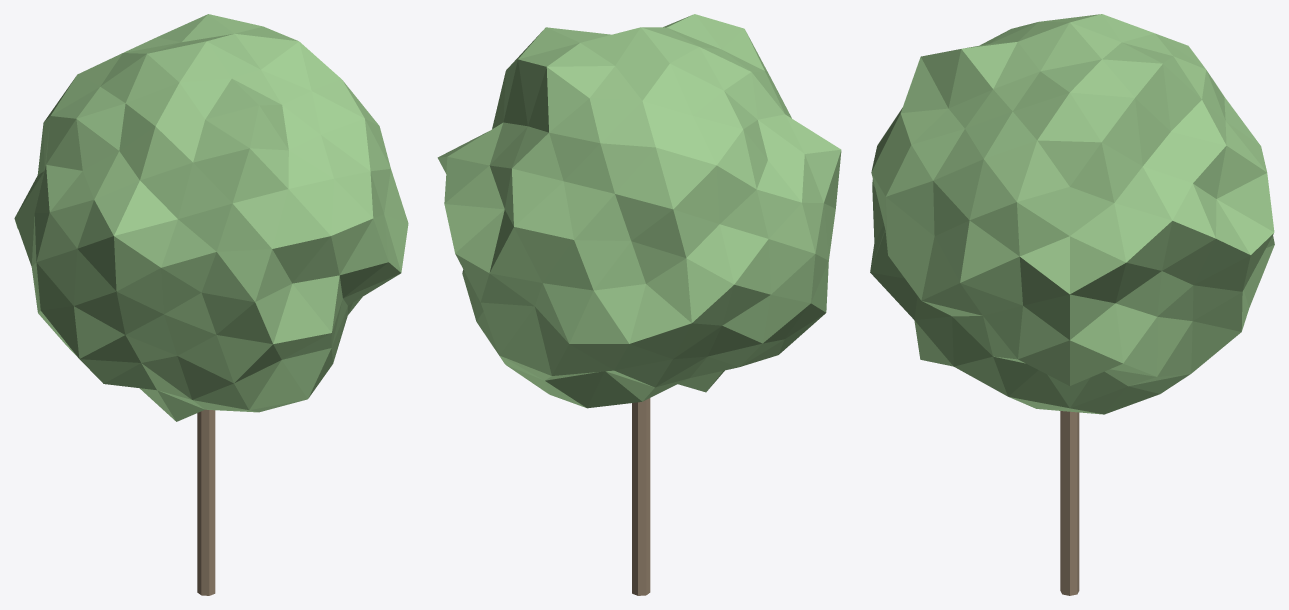
File: small_tree.glb
3 views of the same model, side by side, from view 1: azimuth 30°, elevation 25°; view 2: azimuth 150°, elevation 25°; view 3: azimuth 270°, elevation 25° (orthographic). The views are drawn at different scales.
Parts seen in each view (by area): view 1: part_1, part_0; view 2: part_1, part_0; view 3: part_1, part_0.
Part boxes in pixels (box(x1,y1,x2,y2)): part_1: box(14, 14, 408, 421); part_0: box(197, 409, 215, 595); part_1: box(437, 14, 841, 408); part_0: box(632, 398, 650, 595); part_1: box(870, 14, 1274, 414); part_0: box(1060, 411, 1079, 595).
Size of the model in its own units: 5.3 by 8.16 by 5.26.
